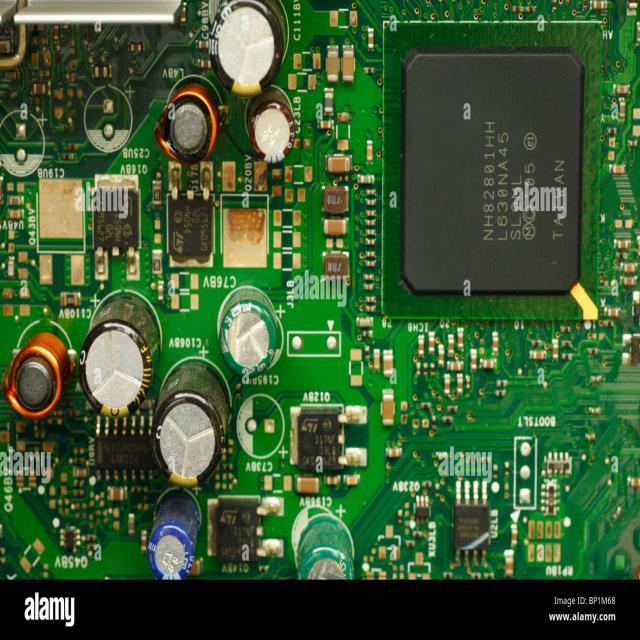pcb: (1, 0, 638, 582), (289, 403, 345, 473)
